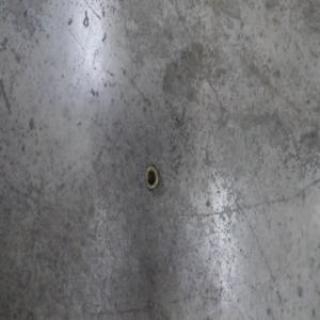Nuttrack_idkeyframe: (144, 164, 159, 193)
